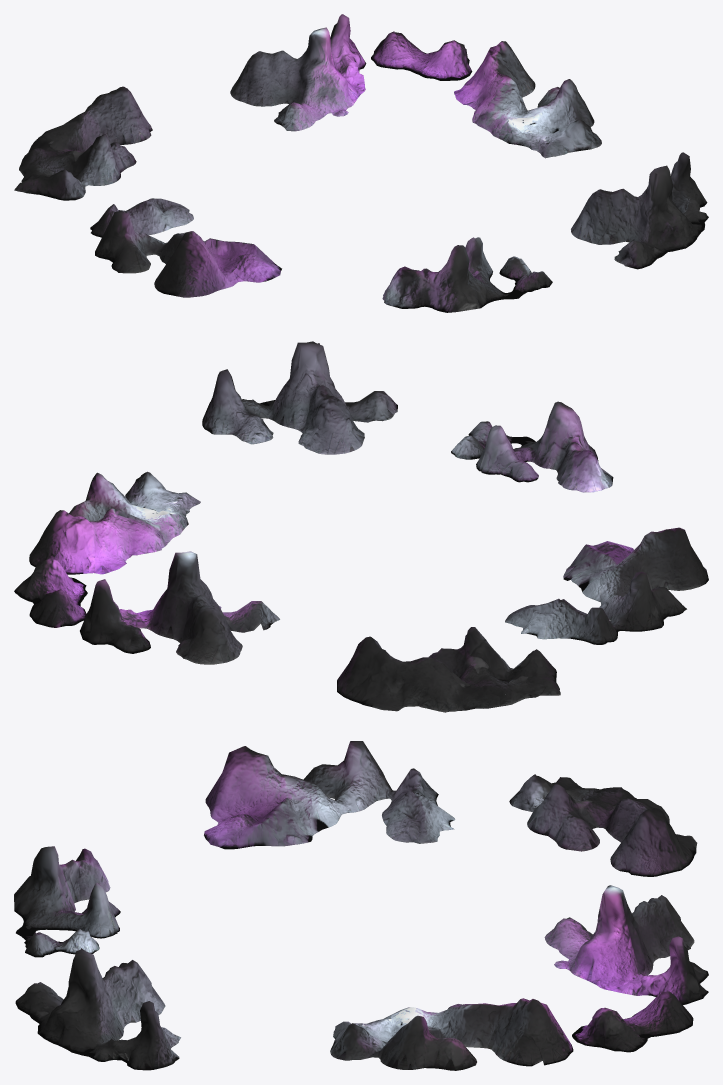
The model's file is mountain.glb.
The picture shows the model from 3 angles, top to bottom: view 1: azimuth 30°, elevation 25°; view 2: azimuth 150°, elevation 25°; view 3: azimuth 270°, elevation 25°; orthographic projection. The views are drawn at different scales.
Parts seen in each view (by area): view 1: mountain.001; view 2: mountain.001; view 3: mountain.001.
Part boxes in pixels (x1,y1,x2,y2): mountain.001: [14, 14, 708, 312]; mountain.001: [14, 341, 708, 712]; mountain.001: [14, 741, 708, 1070].
Size of the model in its own units: 99.56 by 12.16 by 99.38.
Materials: 1 (1 with a texture image).
